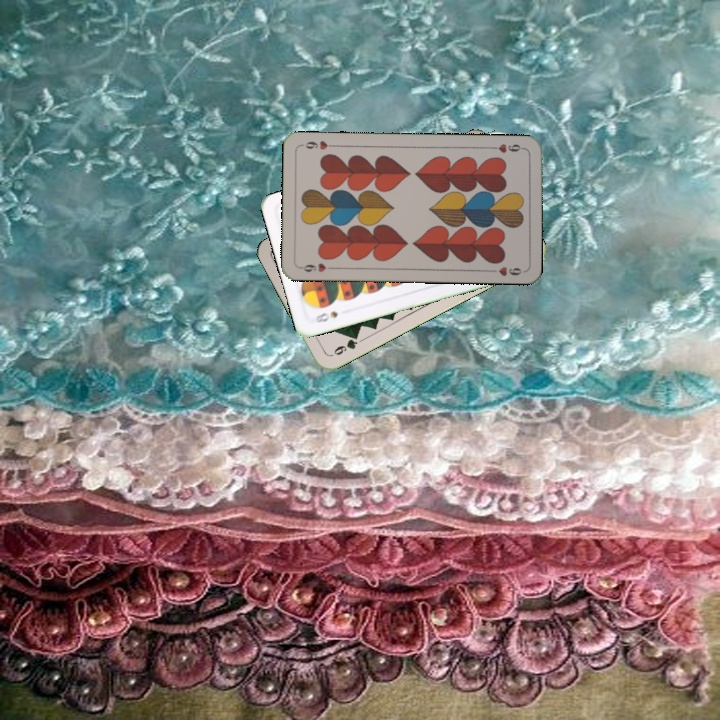G9: (327, 331, 361, 359)
H9: (296, 259, 337, 275), (486, 140, 527, 155)
S8: (309, 307, 341, 325)
